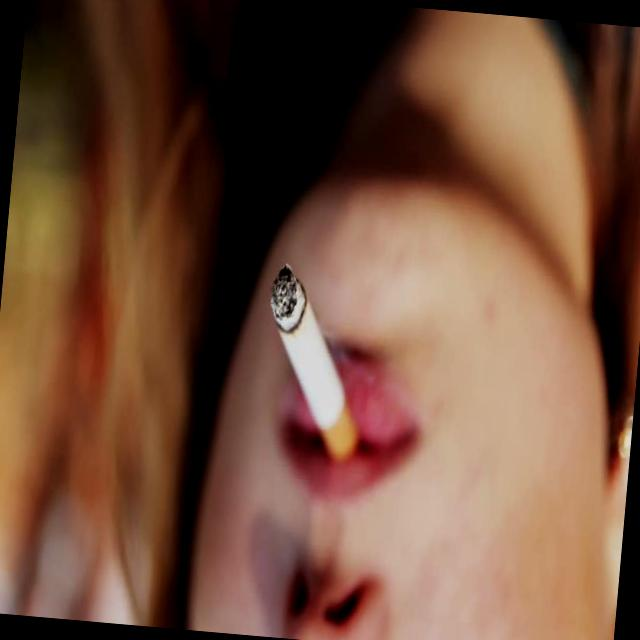cigarette: (231, 217, 380, 520)
